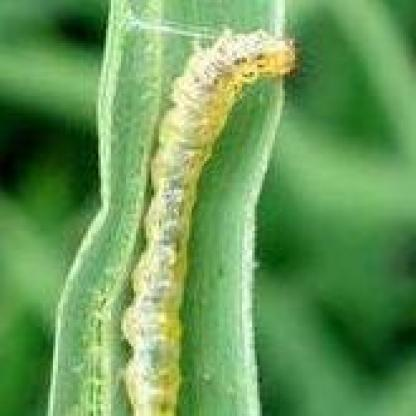leaf-folder: (98, 22, 323, 416)
